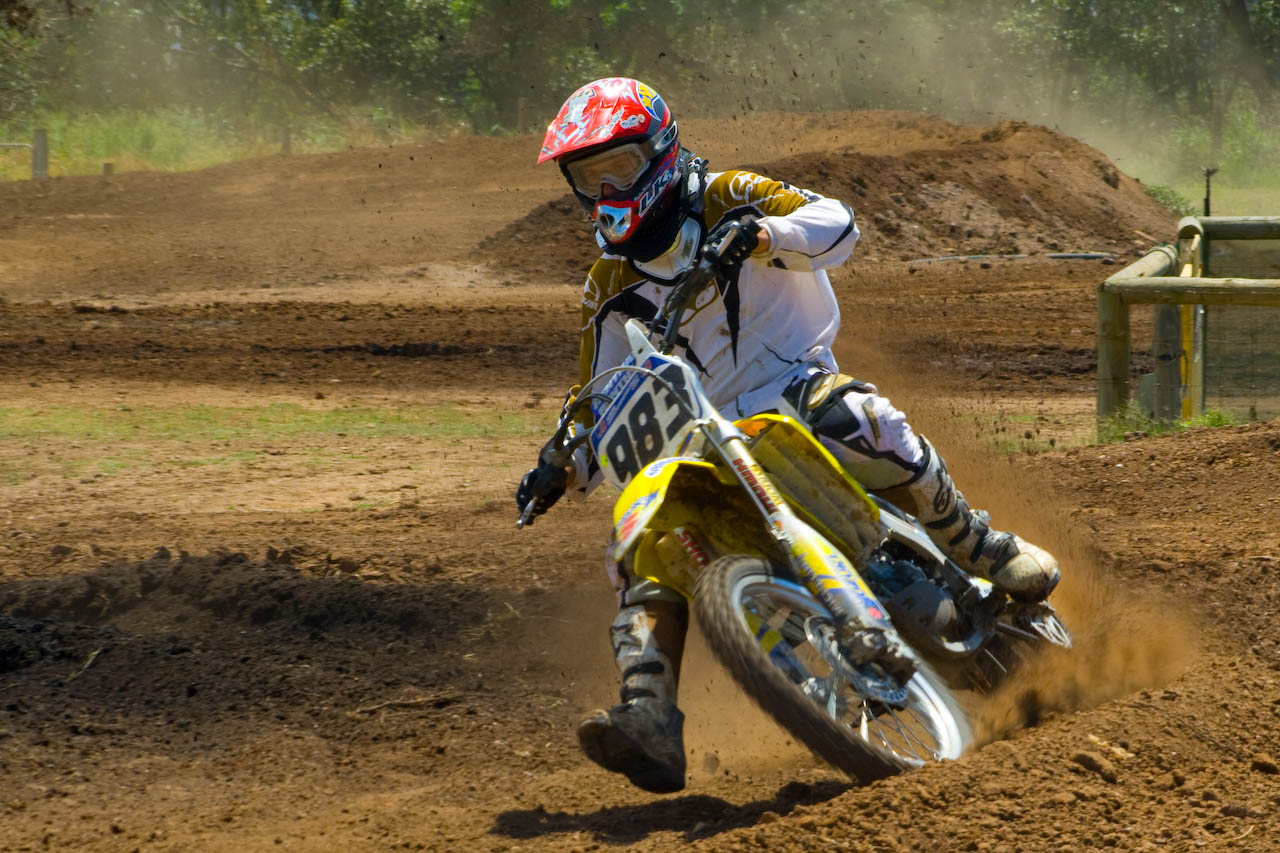helmet: (537, 80, 681, 213)
